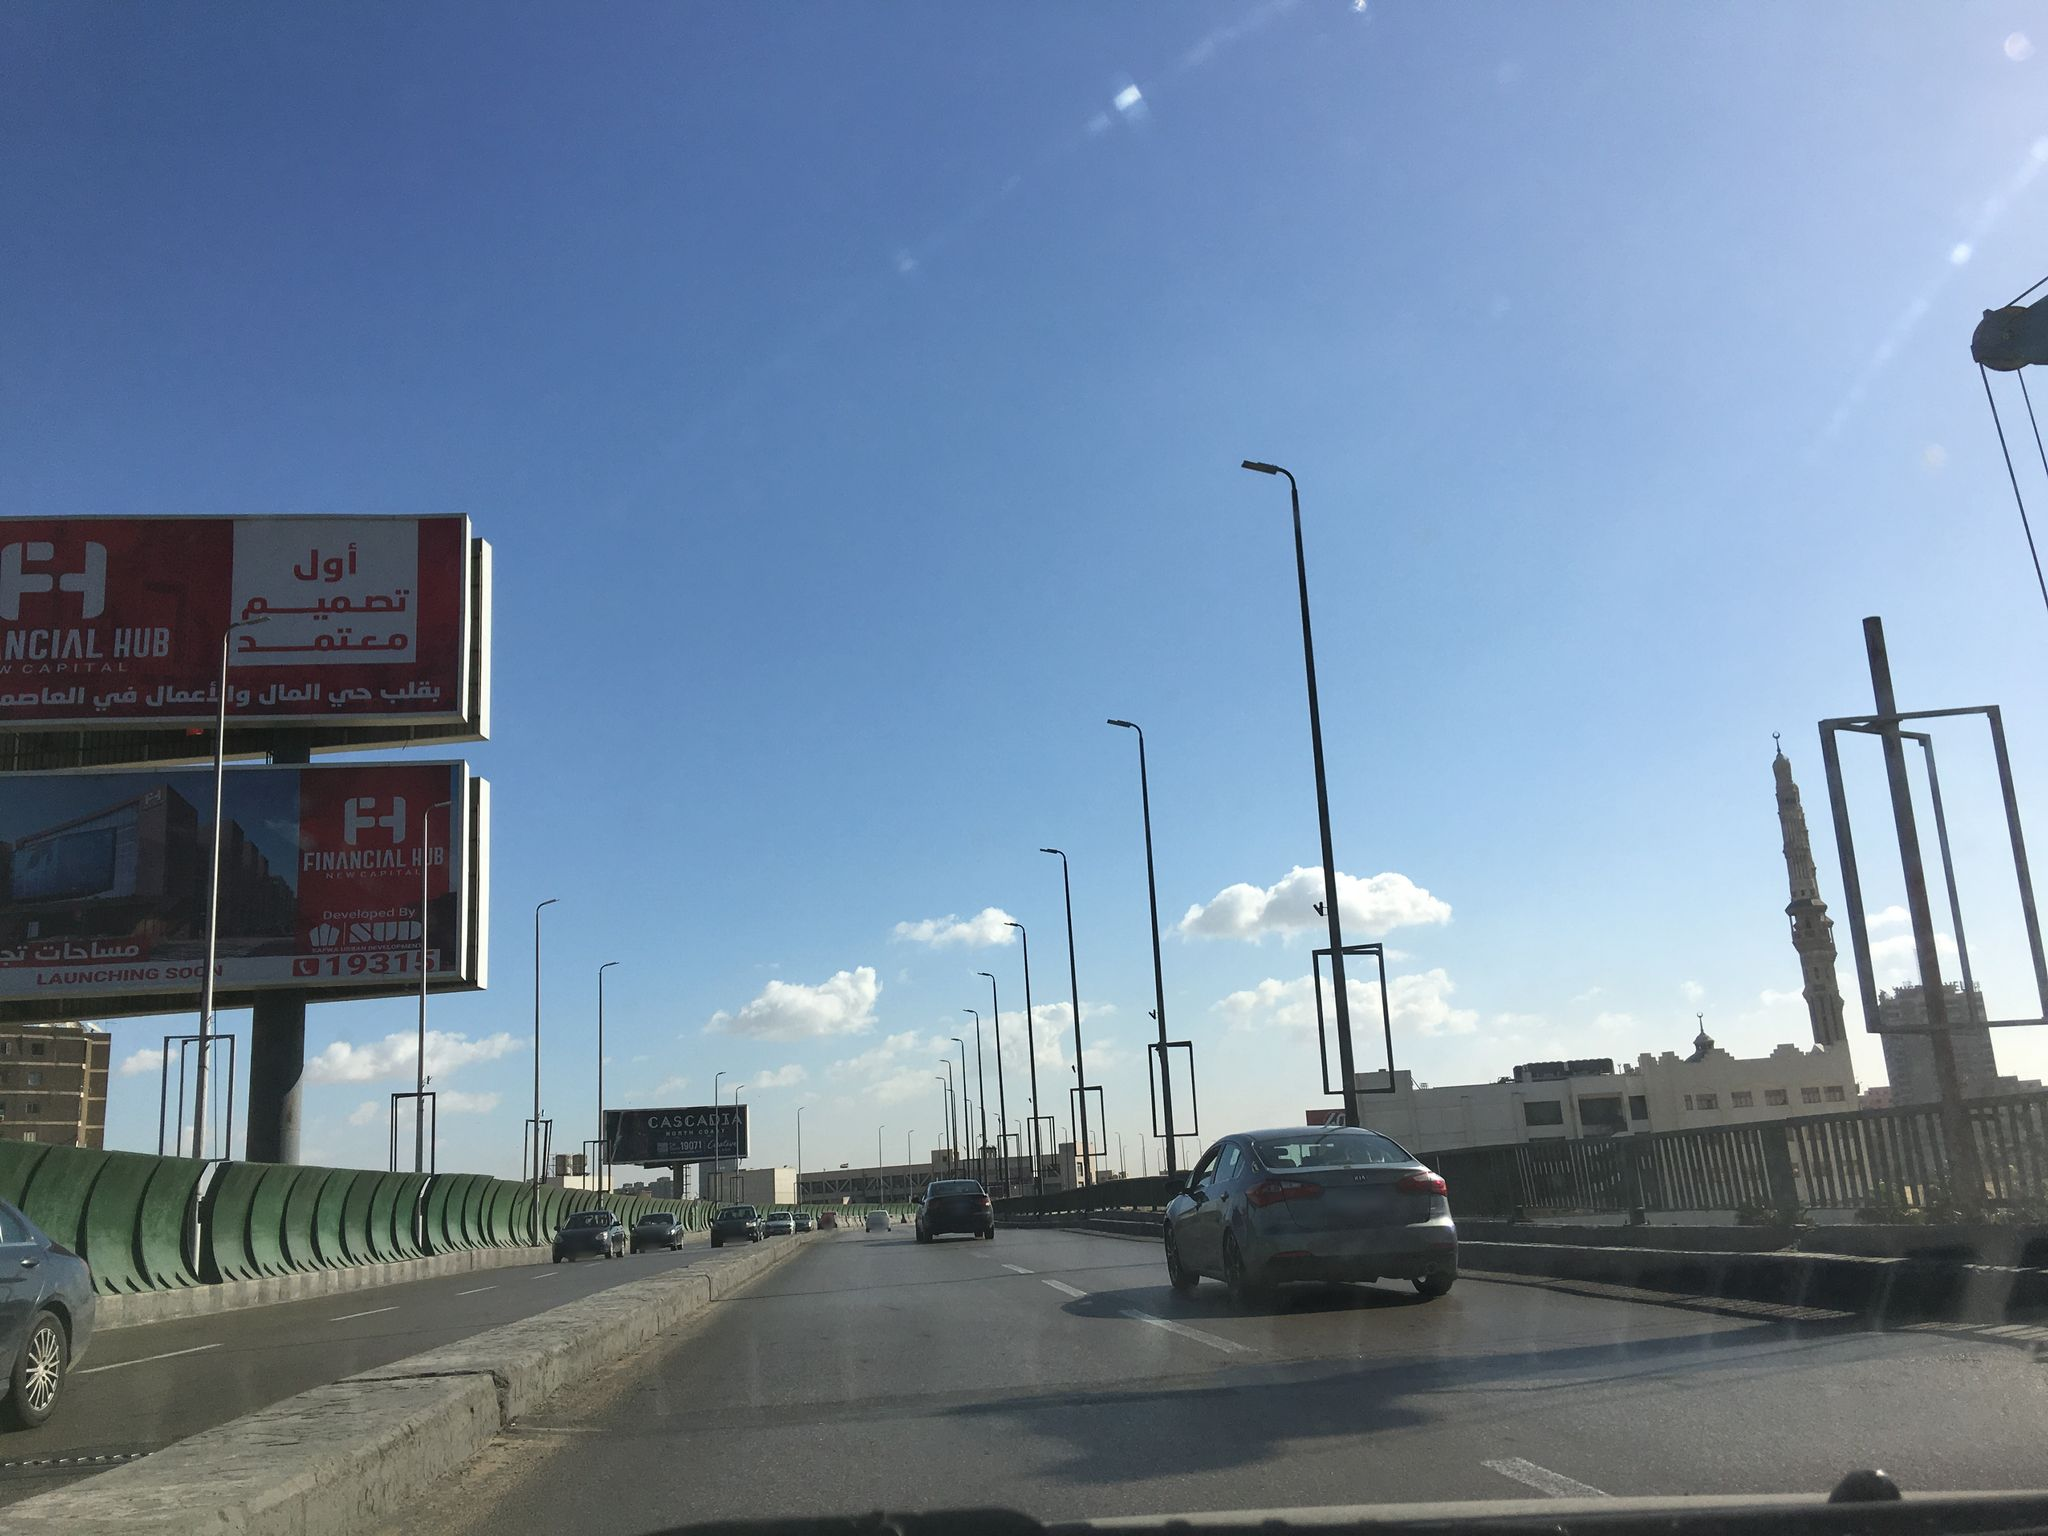car: (1159, 1123, 1458, 1300), (0, 1192, 97, 1431), (911, 1179, 995, 1241), (552, 1210, 627, 1262), (627, 1212, 684, 1250), (710, 1204, 764, 1242), (763, 1210, 797, 1234), (863, 1208, 893, 1233), (792, 1212, 814, 1231)
